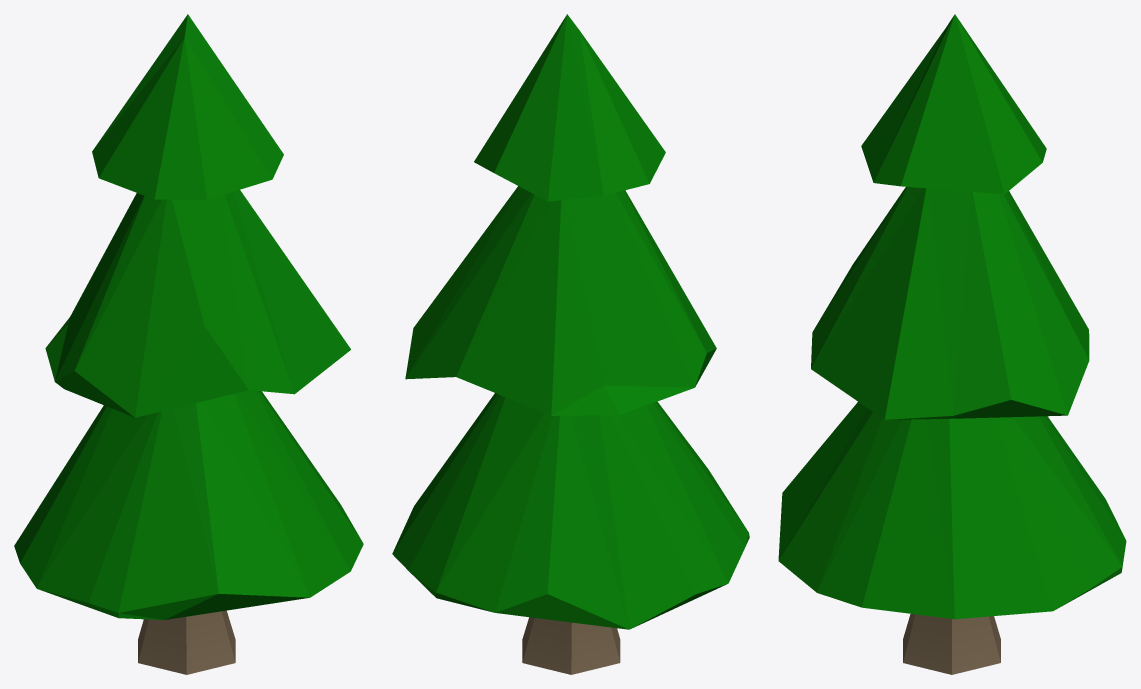
Rendered from sapin.fbx.
3 renders of one model, left to right at view 1: azimuth 30°, elevation 25°; view 2: azimuth 150°, elevation 25°; view 3: azimuth 270°, elevation 25°, orthographic.
Parts seen in each view (by area): view 1: sapin; view 2: sapin; view 3: sapin.
Boxes of the visible parts, x1=… form: sapin: x1=14, y1=14, x2=363, y2=674; sapin: x1=392, y1=14, x2=749, y2=674; sapin: x1=778, y1=14, x2=1126, y2=674.
Bounding box in the file's own units: 1.92 × 3.77 × 1.86.
